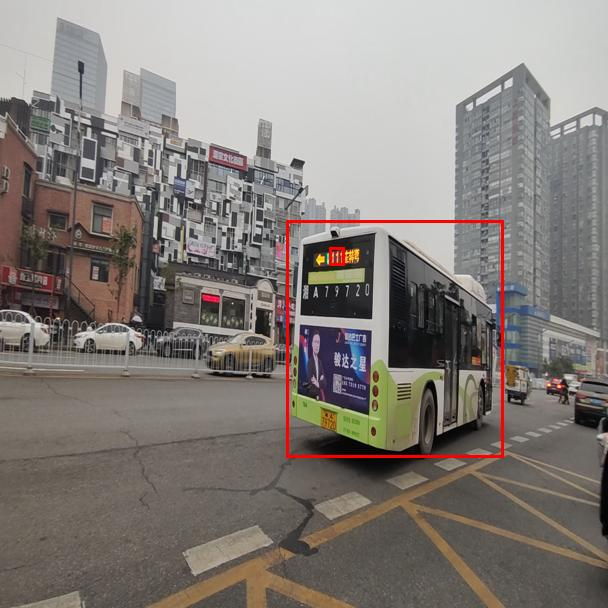bus: (286, 220, 503, 457)
screen: (329, 247, 344, 265)
